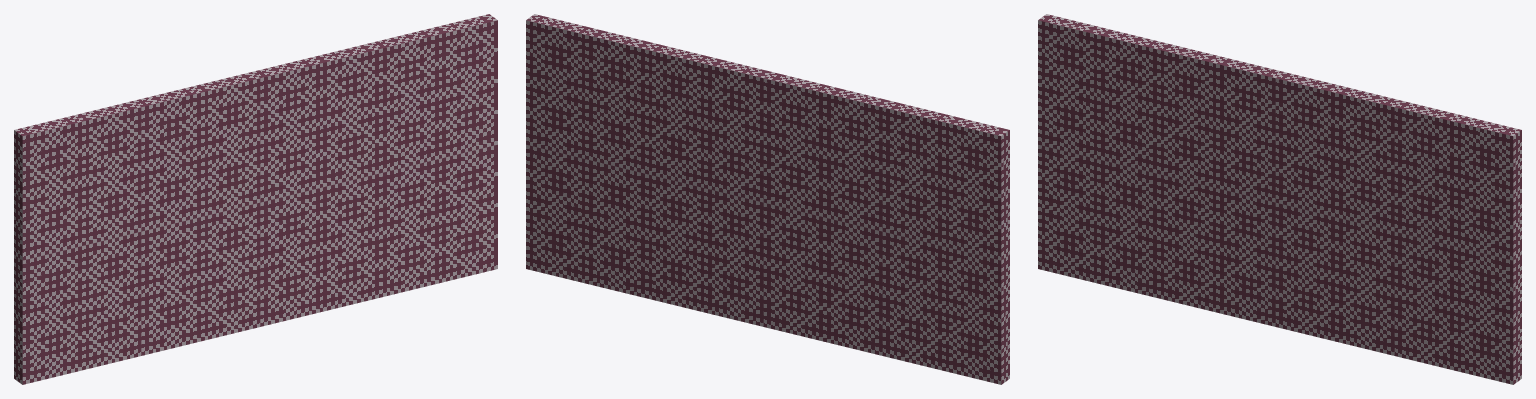
File: wall_textured_b_8_col.gltf
3 views of the same model, side by side, from view 1: azimuth 30°, elevation 25°; view 2: azimuth 150°, elevation 25°; view 3: azimuth 330°, elevation 25° (orthographic).
Visible parts, largest first — view 1: wall_textured_b_8_col; view 2: wall_textured_b_8_col; view 3: wall_textured_b_8_col.
Part boxes in pixels (<box>): wall_textured_b_8_col: <box>14,14,497,384</box>; wall_textured_b_8_col: <box>526,14,1009,384</box>; wall_textured_b_8_col: <box>1038,14,1521,384</box>.
Size of the model in its own units: 8 by 4 by 0.25.
Materials: 1 (1 with a texture image).
